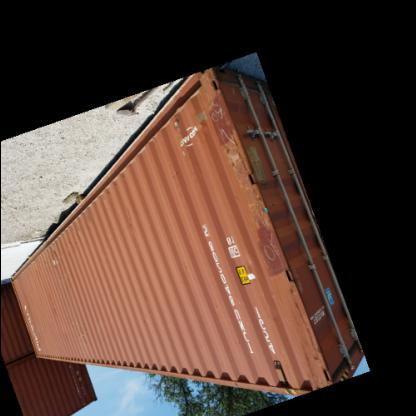Damage: (206, 86, 252, 188), (245, 205, 294, 275), (46, 248, 66, 274), (74, 329, 90, 350)
